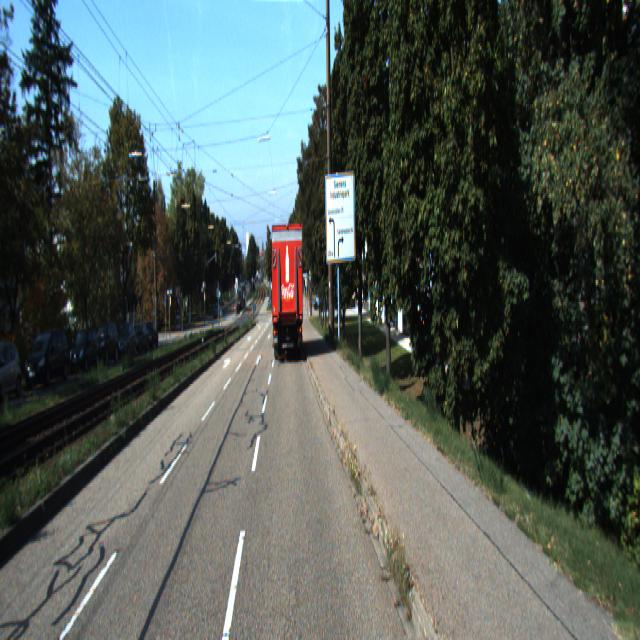Car: (24, 331, 72, 392), (68, 325, 100, 372), (0, 337, 23, 399), (90, 324, 119, 366), (114, 322, 136, 363)
DontCare: (132, 320, 160, 350)
Truck: (270, 224, 305, 367)
